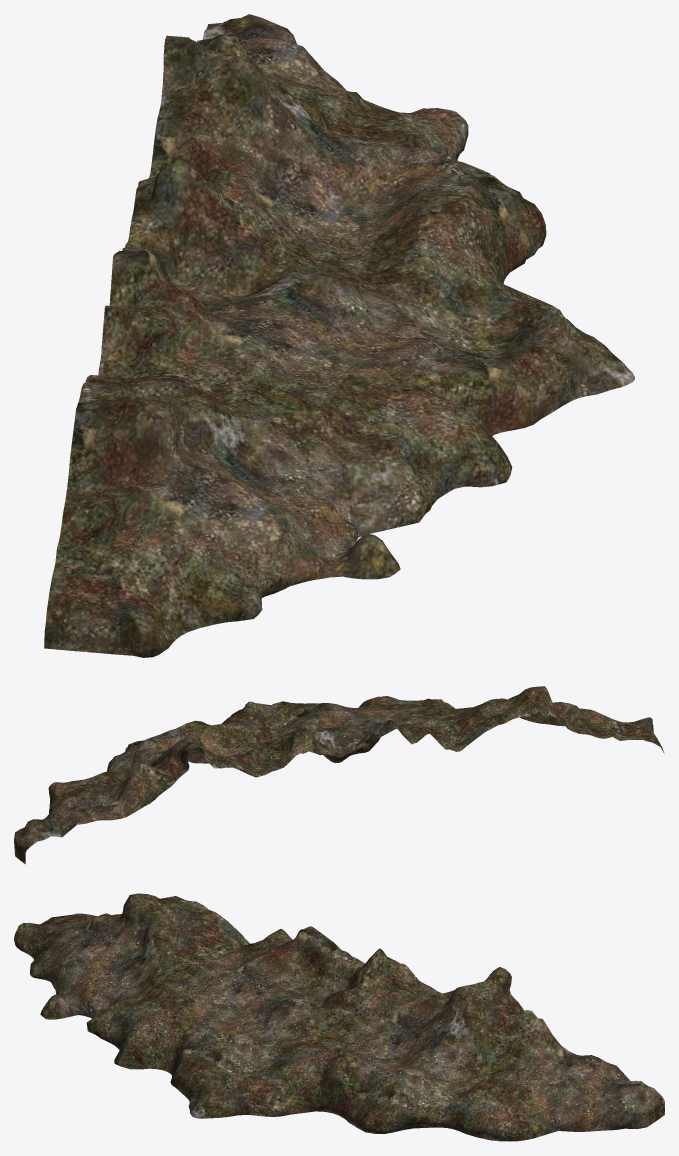
Rendered from sm20_017_largefatberg01a.fbx.
3 views of the same model, one above another, from view 1: azimuth 30°, elevation 25°; view 2: azimuth 150°, elevation 25°; view 3: azimuth 270°, elevation 25° (orthographic). The views are drawn at different scales.
Parts seen in each view (by area): view 1: LOD_1_Group_0_Sub_1__sm20_017_LargeFatBerg01A_A_Mat; view 2: LOD_1_Group_0_Sub_1__sm20_017_LargeFatBerg01A_A_Mat; view 3: LOD_1_Group_0_Sub_1__sm20_017_LargeFatBerg01A_A_Mat.
Boxes of the visible parts, x1,y1,x2,y2 form: LOD_1_Group_0_Sub_1__sm20_017_LargeFatBerg01A_A_Mat: (44,14,634,657); LOD_1_Group_0_Sub_1__sm20_017_LargeFatBerg01A_A_Mat: (14,686,664,864); LOD_1_Group_0_Sub_1__sm20_017_LargeFatBerg01A_A_Mat: (14,893,664,1141).
Bounding box in the file's own units: 9 × 1.92 × 11.2.
